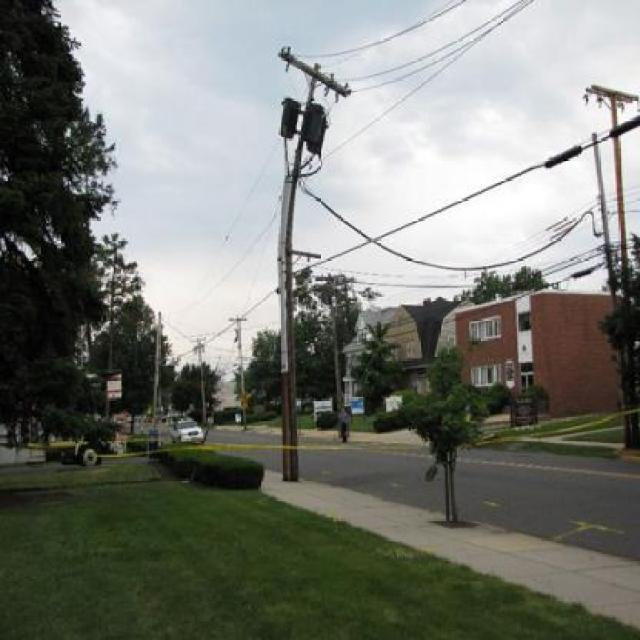pole: (263, 39, 359, 475)
